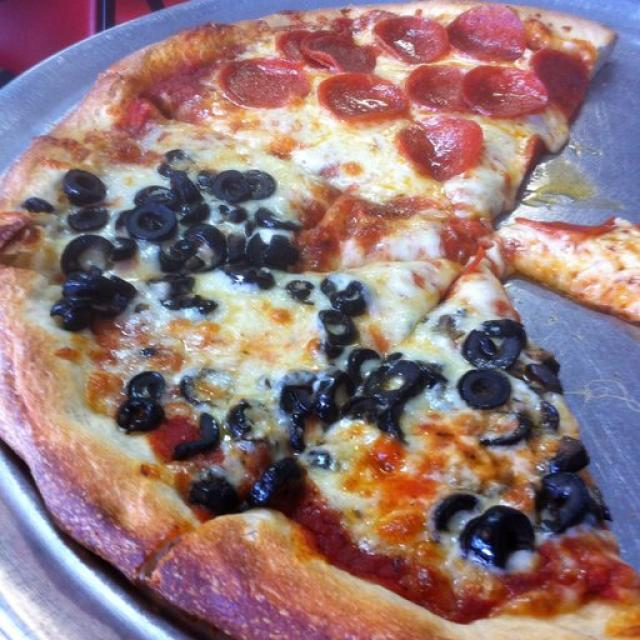Cheese: (307, 124, 376, 182), (234, 306, 290, 369)
Olives: (347, 350, 417, 424), (457, 504, 535, 561), (459, 312, 527, 373), (243, 451, 307, 514), (51, 277, 133, 325), (535, 466, 591, 532), (279, 368, 336, 429), (454, 368, 521, 414), (289, 275, 365, 313), (55, 236, 117, 282), (218, 398, 277, 446), (172, 408, 222, 463), (202, 165, 280, 200), (185, 472, 244, 517), (104, 395, 163, 436), (158, 238, 225, 272), (253, 230, 298, 280), (156, 274, 215, 312), (123, 365, 173, 405), (121, 203, 172, 240), (62, 166, 106, 203), (313, 309, 359, 344), (432, 494, 478, 528), (164, 169, 208, 204), (227, 236, 256, 286), (550, 434, 590, 470), (254, 206, 303, 235), (520, 358, 559, 394), (64, 205, 110, 231), (130, 182, 172, 206), (220, 201, 254, 229), (20, 195, 57, 218)
Pepperoni: (408, 62, 546, 115), (448, 4, 534, 64), (215, 55, 308, 108), (400, 119, 482, 179), (317, 72, 409, 124), (273, 25, 371, 72), (528, 43, 590, 99), (377, 18, 449, 63)
Pizza: (0, 4, 640, 640)
